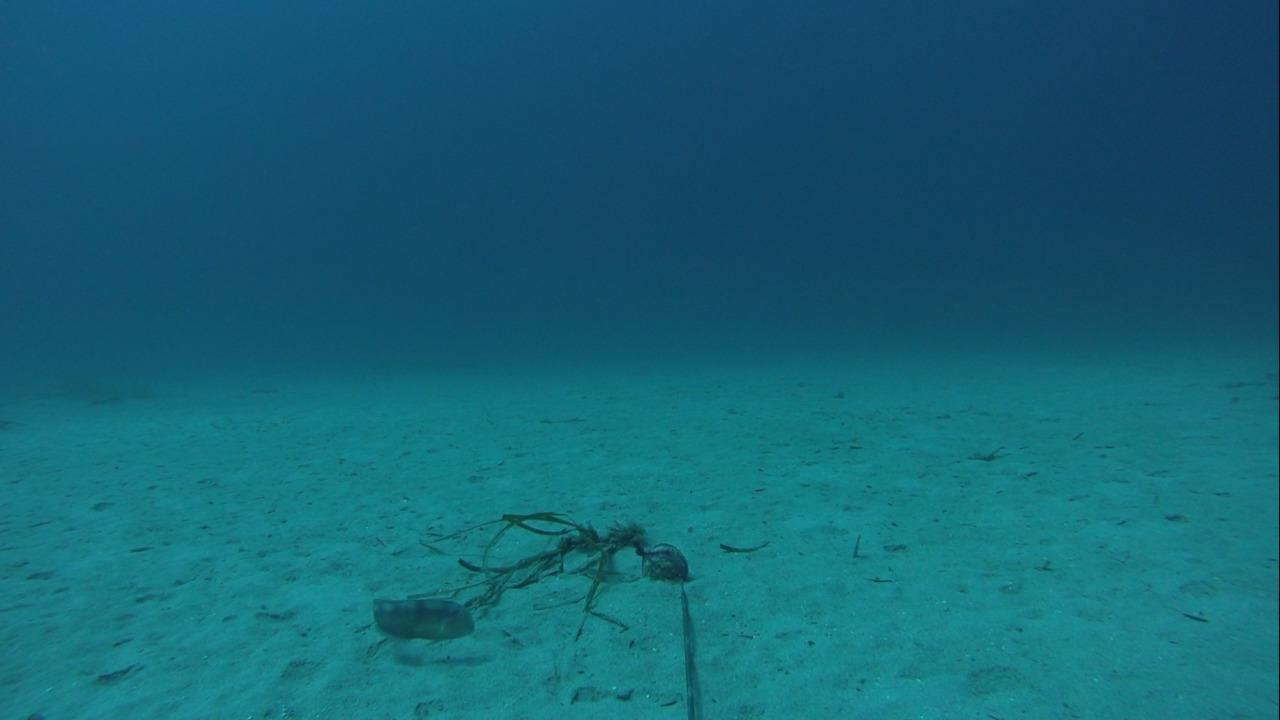raor: (360, 592, 482, 645)
